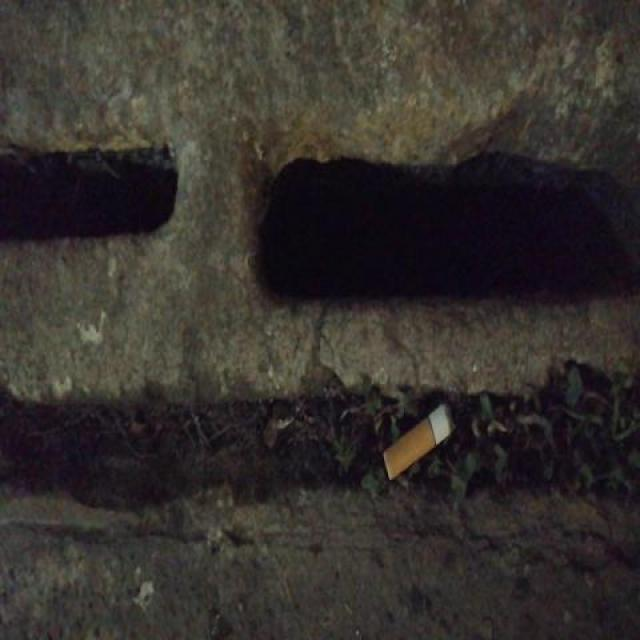non-organic waste: (378, 398, 461, 485)
